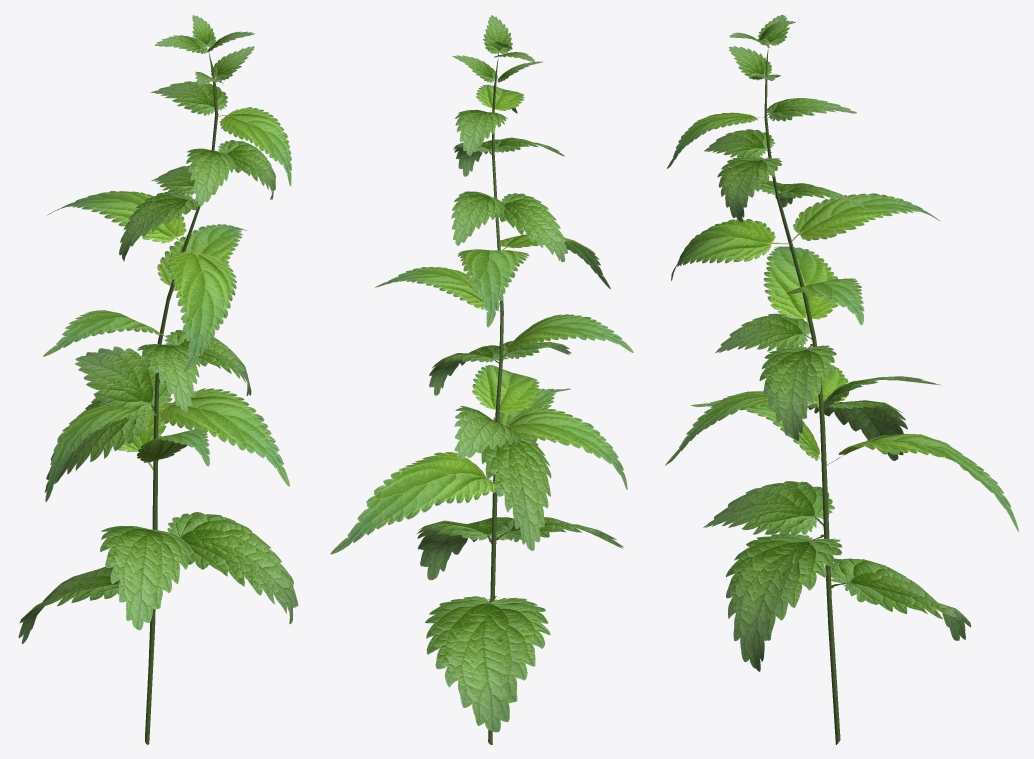
Rendered from plant4.gltf.
The picture shows the model from 3 angles, left to right: view 1: azimuth 30°, elevation 25°; view 2: azimuth 150°, elevation 25°; view 3: azimuth 270°, elevation 25°; orthographic projection. The views are drawn at different scales.
Visible parts, largest first — view 1: GS Nettle 01; view 2: GS Nettle 01; view 3: GS Nettle 01.
Boxes of the visible parts, box(x1,y1,x2,y2) form: GS Nettle 01: box(18, 15, 298, 744); GS Nettle 01: box(330, 15, 633, 744); GS Nettle 01: box(665, 14, 1019, 744).
Size of the model in its own units: 0.1434 by 0.4082 by 0.1795.
2 materials, 2 textured.
